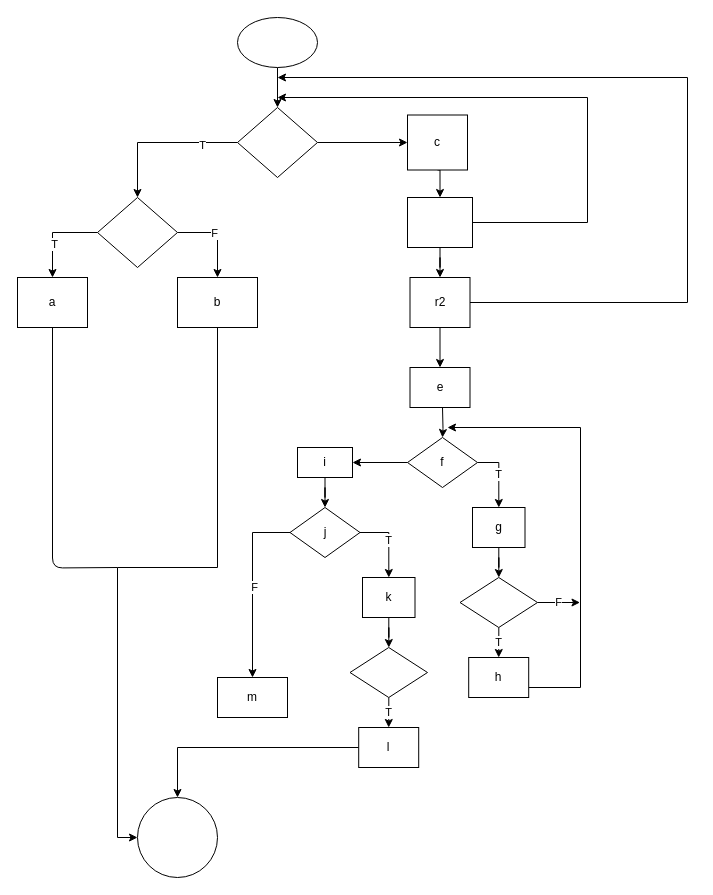
Some shapes in this 713 by 895 pixel diagram are drawn without their labels. Here are the shapes that lost their labels. From the top down, the centre of each, then its label:
At point (277, 42): "入口".
At point (277, 142): "X1".
At point (137, 232): "X2".
At point (439, 222): "r1".
At point (498, 602): "X3".
At point (388, 672): "X4".
At point (177, 837): "出口".
